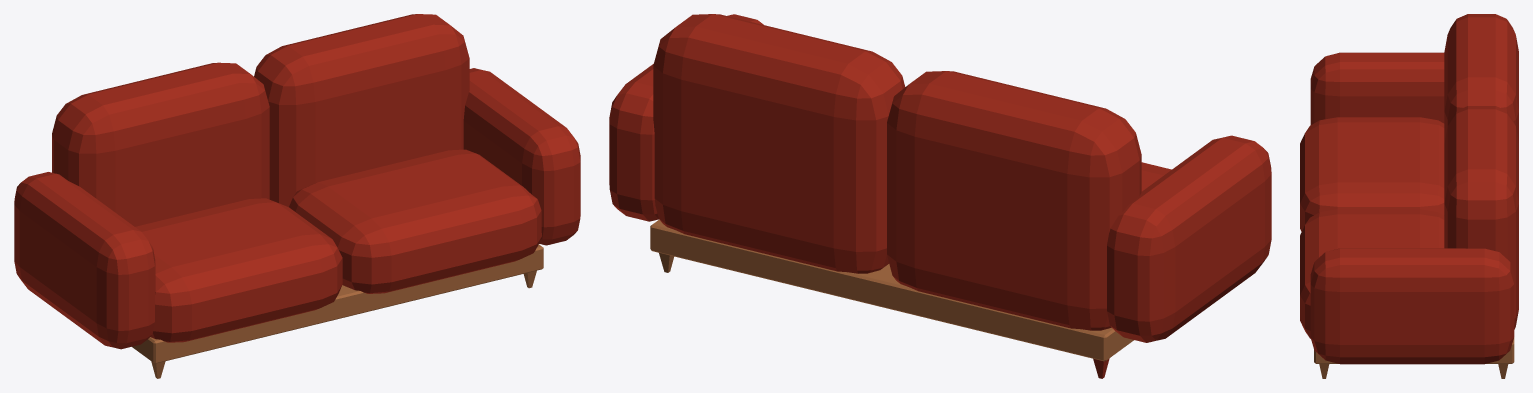
The model's file is Sofa A.glb.
The picture shows the model from 3 angles, left to right: view 1: azimuth 30°, elevation 25°; view 2: azimuth 150°, elevation 25°; view 3: azimuth 270°, elevation 25°; orthographic projection. The views are drawn at different scales.
Visible parts, largest first — view 1: Sofa A; view 2: Sofa A; view 3: Sofa A.
Boxes of the visible parts, box(x1,y1,x2,y2) form: Sofa A: box(14, 14, 580, 378); Sofa A: box(609, 14, 1271, 378); Sofa A: box(1300, 14, 1518, 378).
Size of the model in its own units: 1040 by 440 by 437.
